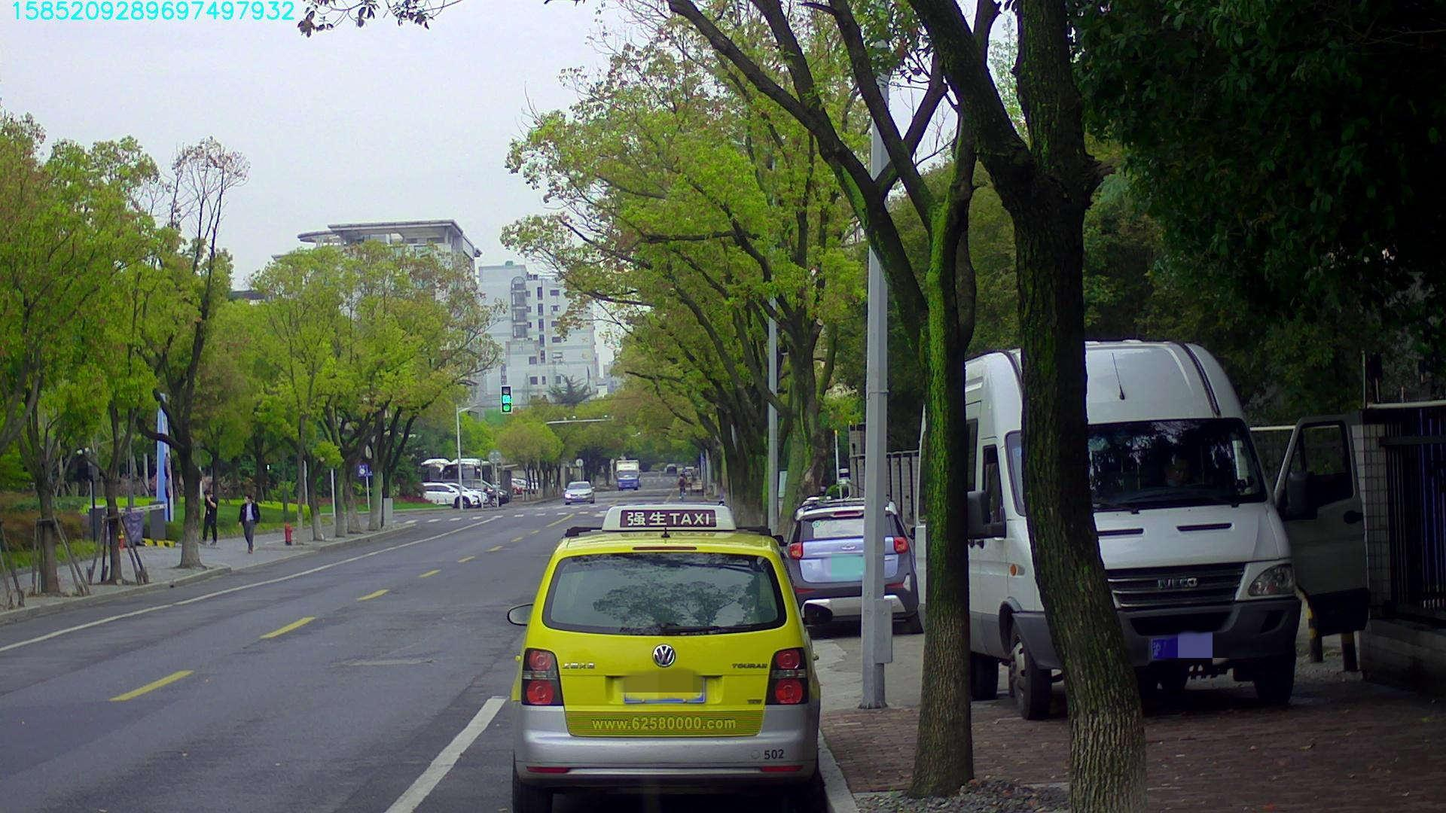green: (500, 385, 511, 413)
